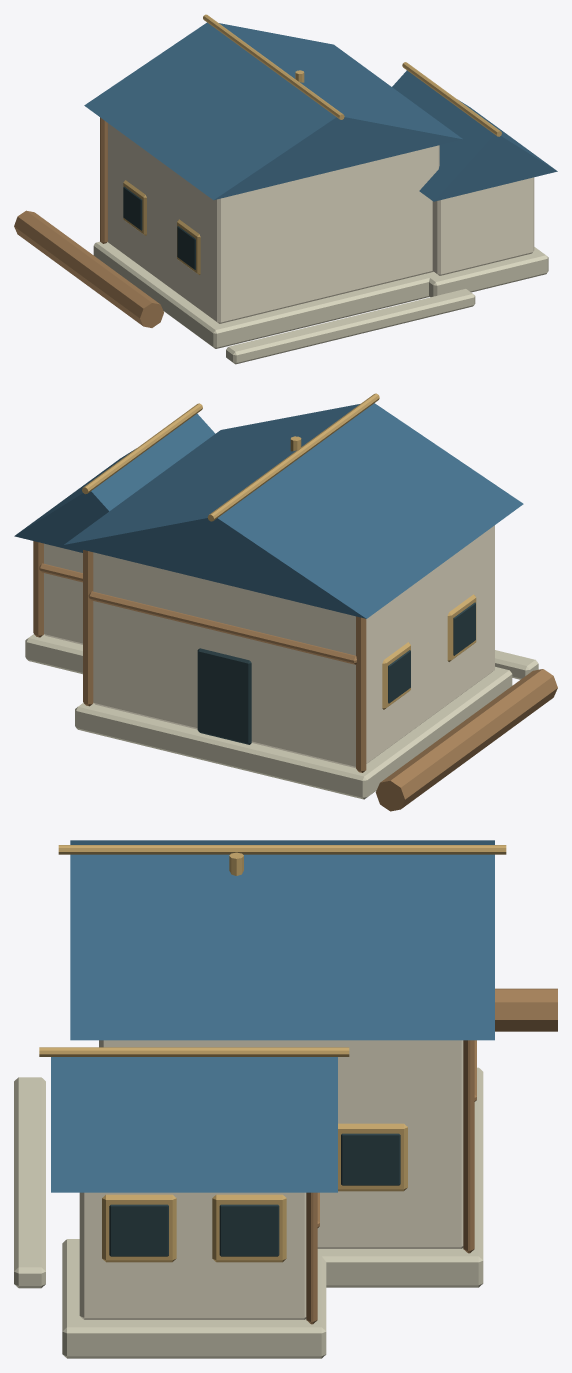
Rendered from level_11.glb.
3 views of the same model, one above another, from view 1: azimuth 30°, elevation 25°; view 2: azimuth 150°, elevation 25°; view 3: azimuth 270°, elevation 25° (orthographic). The views are drawn at different scales.
Parts seen in each view (by area): view 1: timber_yard — level 11; view 2: timber_yard — level 11; view 3: timber_yard — level 11.
Part boxes in pixels (x1,y1,x2,y2): timber_yard — level 11: [14, 14, 557, 364]; timber_yard — level 11: [14, 393, 557, 811]; timber_yard — level 11: [14, 840, 557, 1358].
Size of the model in its own units: 6.43 by 3.35 by 4.74.
